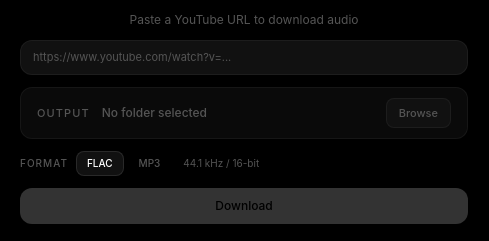
Test: YouTubeDownloader › enables download when URL and folder are provided
Type "https://www.youtube.com/watch?v=test123" into the field with placeholder "https://www.youtube.com/watch?v=..." at (244,57), box [20, 40, 468, 74]
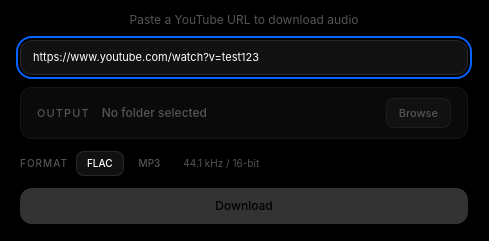
Click the button "Browse" at (418,113), box [386, 98, 451, 128]
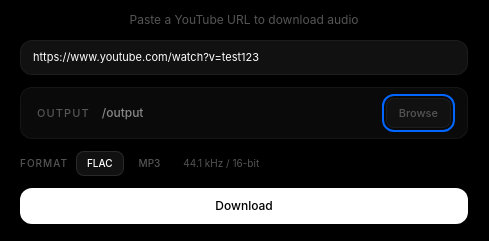
Now the button "Download" is enabled, box [20, 188, 468, 224]
